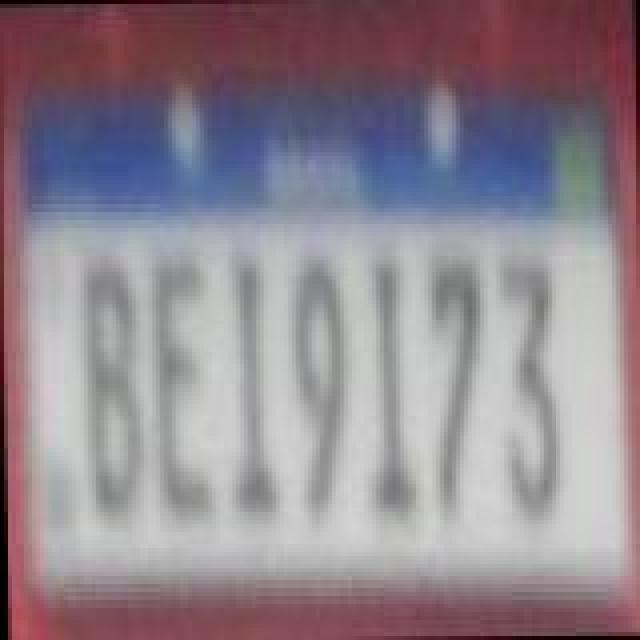3: (498, 250, 566, 526)
7: (430, 252, 490, 512)
9: (292, 262, 356, 522)
B: (82, 258, 142, 518)
E: (148, 248, 220, 524)
I: (224, 252, 280, 520), (364, 252, 412, 528)
